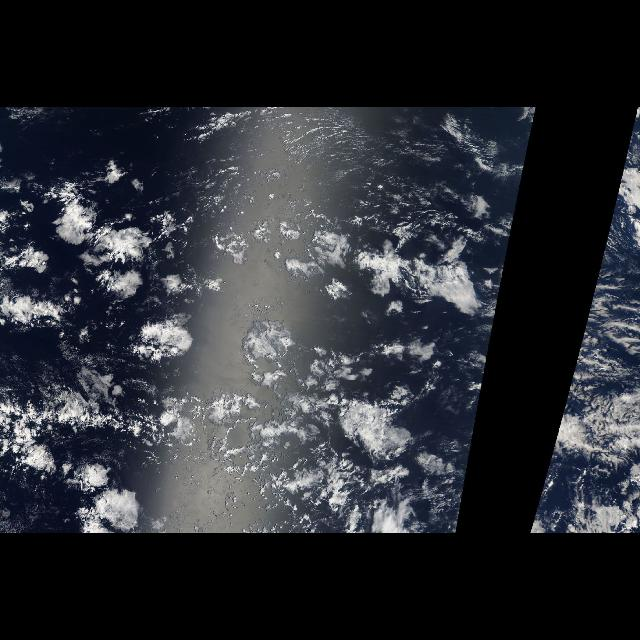Flower: (4, 156, 426, 530)
